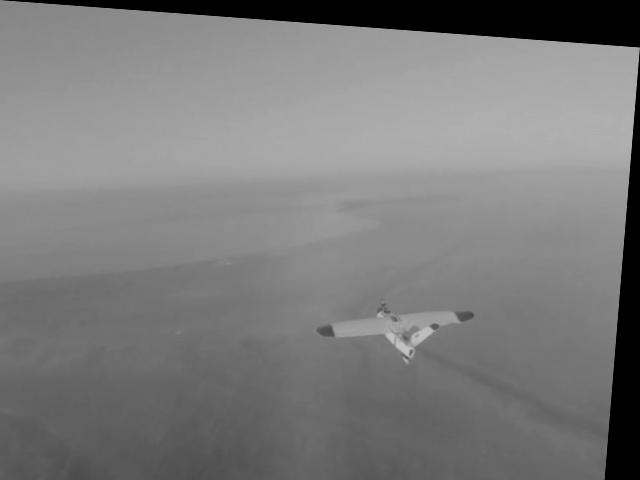hedef: (300, 279, 482, 367)
